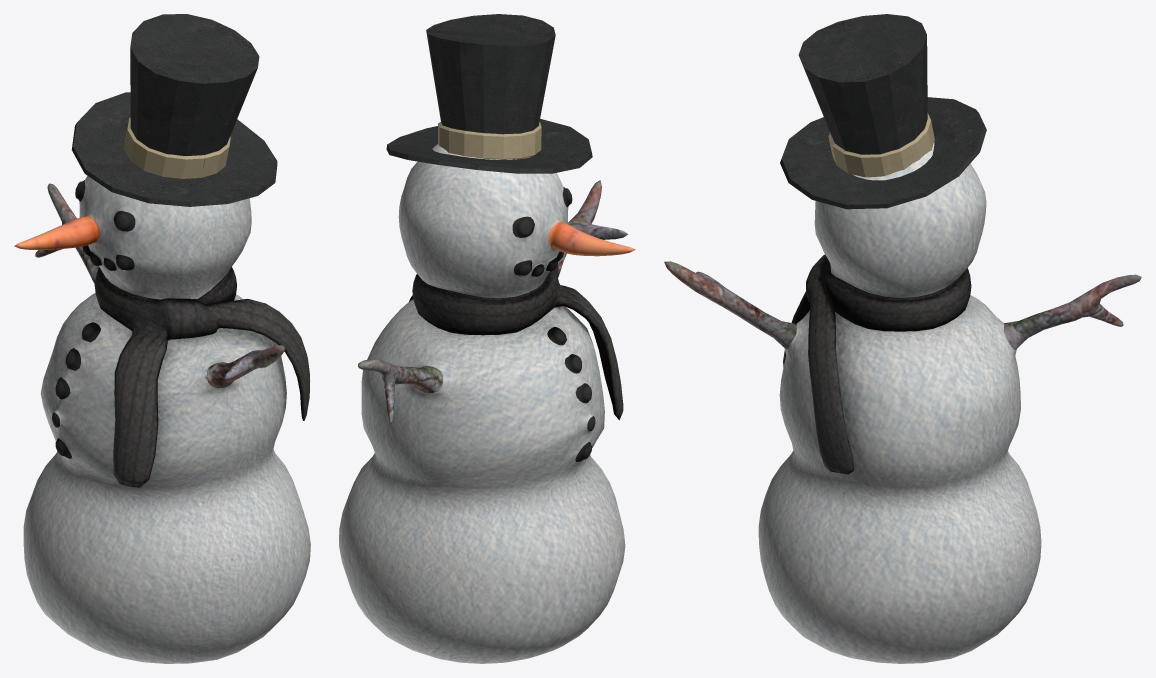
Rendered from snowman.fbx.
3 renders of one model, left to right at view 1: azimuth 30°, elevation 25°; view 2: azimuth 150°, elevation 25°; view 3: azimuth 270°, elevation 25°, orthographic.
Parts seen in each view (by area): view 1: snowman:snowmanmesh, snowmanhat:snowmanhatmesh; view 2: snowman:snowmanmesh, snowmanhat:snowmanhatmesh; view 3: snowman:snowmanmesh, snowmanhat:snowmanhatmesh.
Part boxes in pixels (x1,y1,x2,y2): snowman:snowmanmesh: [14, 176, 310, 663]; snowmanhat:snowmanhatmesh: [71, 14, 277, 206]; snowman:snowmanmesh: [339, 144, 635, 663]; snowmanhat:snowmanhatmesh: [386, 14, 592, 173]; snowman:snowmanmesh: [664, 142, 1141, 663]; snowmanhat:snowmanhatmesh: [780, 14, 986, 209].
Bounding box in the file's own units: 2.19 × 4.53 × 3.25.
2 materials, 2 textured.
